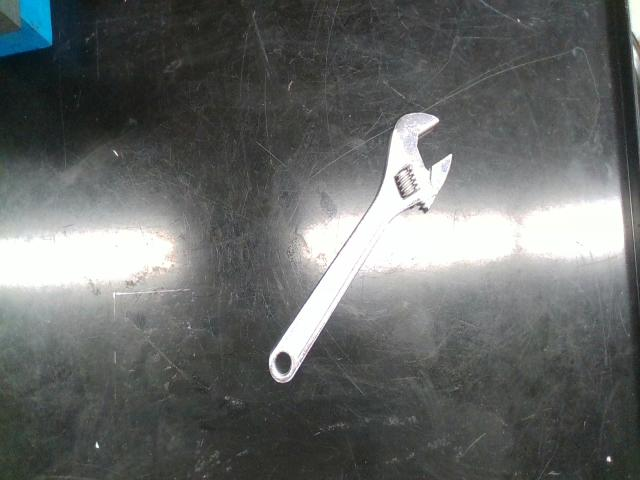Adjustable spanner: (269, 113, 452, 383)
